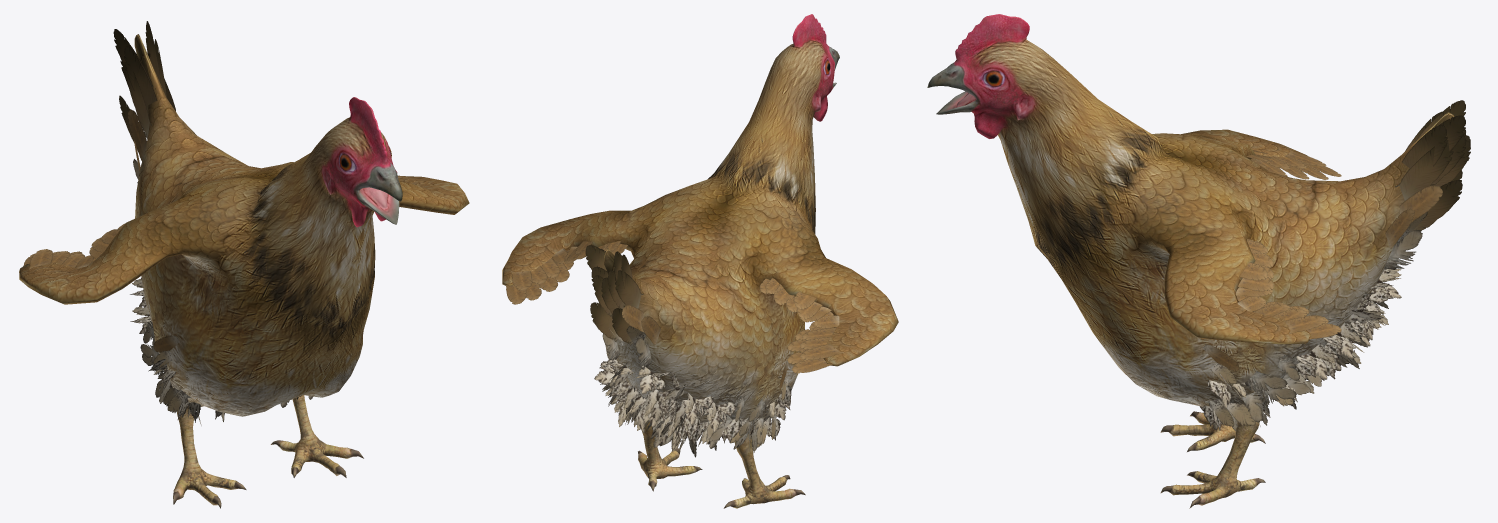
The model's file is chicken.glb.
3 renders of one model, left to right at view 1: azimuth 30°, elevation 25°; view 2: azimuth 150°, elevation 25°; view 3: azimuth 270°, elevation 25°, orthographic. The views are drawn at different scales.
Visible parts, largest first — view 1: AnimalMesh; view 2: AnimalMesh; view 3: AnimalMesh.
Part boxes in pixels (bbox=[...]): AnimalMesh: bbox=[19, 21, 469, 508]; AnimalMesh: bbox=[502, 14, 898, 508]; AnimalMesh: bbox=[927, 14, 1470, 508].
Size of the model in its own units: 0.4006 by 0.4132 by 0.46.
1 material, 1 textured.
